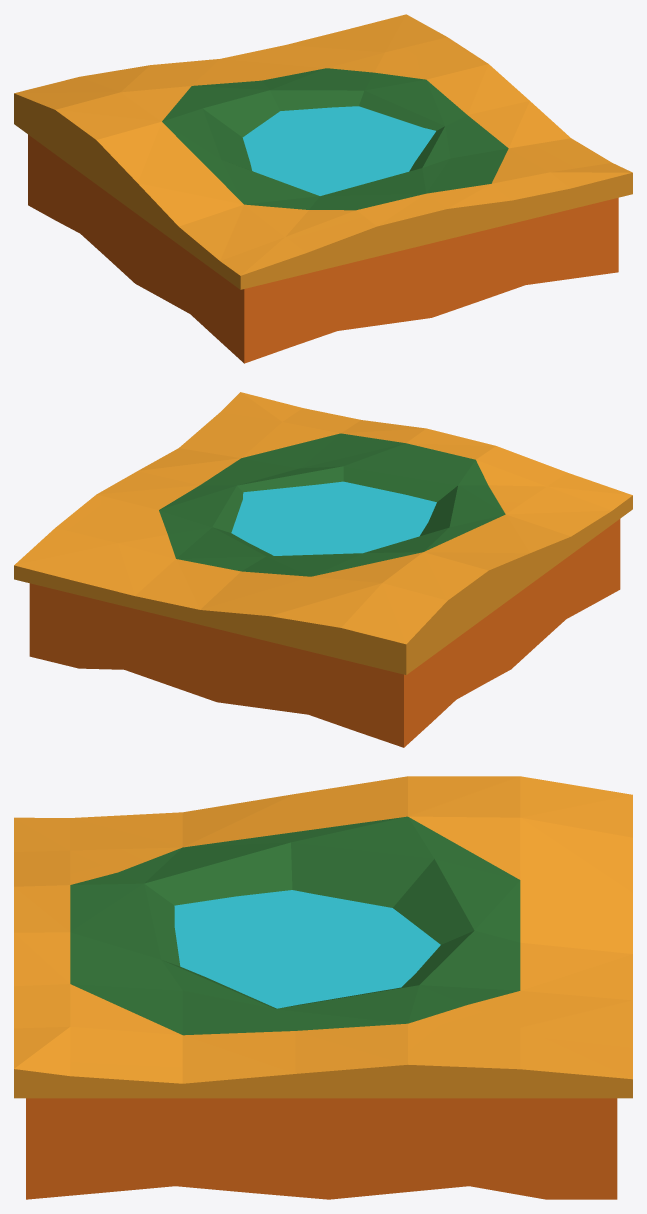
File: world-oasis.glb
3 views of the same model, one above another, from view 1: azimuth 30°, elevation 25°; view 2: azimuth 150°, elevation 25°; view 3: azimuth 270°, elevation 25° (orthographic). The views are drawn at different scales.
Visible parts, largest first — view 1: world-oasis; view 2: world-oasis; view 3: world-oasis.
Part boxes in pixels (x1,y1,x2,y2): world-oasis: (14, 14, 632, 363); world-oasis: (14, 392, 632, 747); world-oasis: (14, 776, 632, 1199).
Bounding box in the file's own units: 30 × 9.18 × 30.
Materials: 1 (1 with a texture image).
